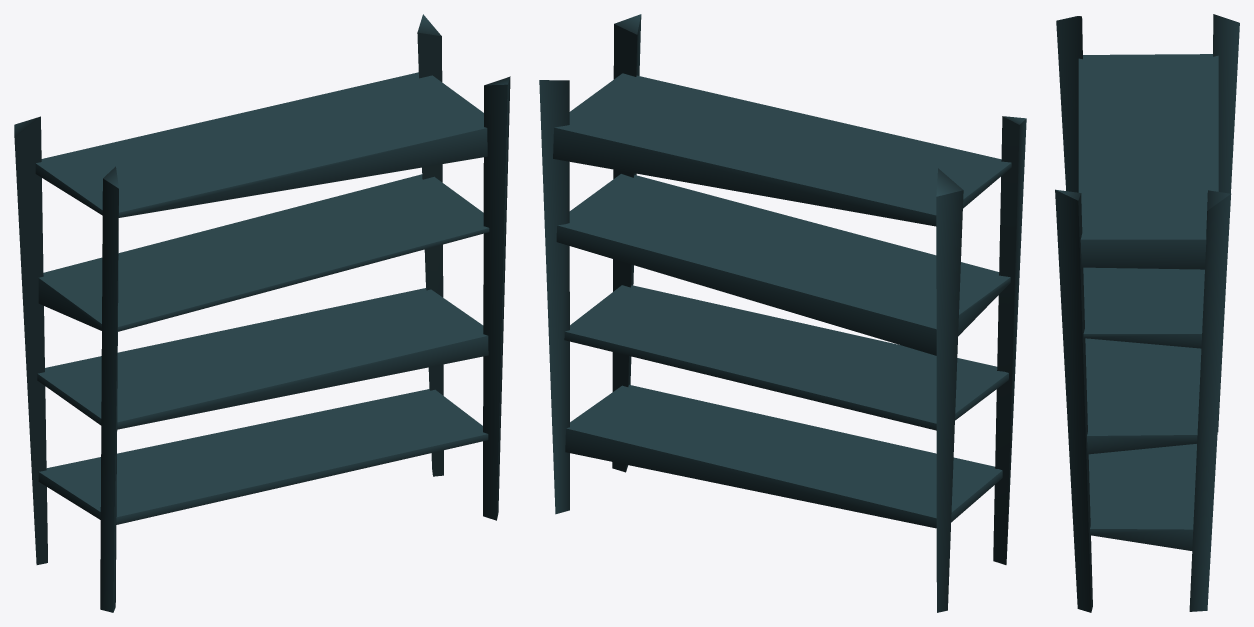
The model's file is c_furniture_shelves_metal_aa.fbx.
The picture shows the model from 3 angles, left to right: view 1: azimuth 30°, elevation 25°; view 2: azimuth 150°, elevation 25°; view 3: azimuth 270°, elevation 25°; orthographic projection. The views are drawn at different scales.
Parts seen in each view (by area): view 1: c_furniture_shelves_metal_aa; view 2: c_furniture_shelves_metal_aa; view 3: c_furniture_shelves_metal_aa.
Part boxes in pixels (bbox=[...]): c_furniture_shelves_metal_aa: bbox=[14, 14, 510, 612]; c_furniture_shelves_metal_aa: bbox=[539, 14, 1026, 612]; c_furniture_shelves_metal_aa: bbox=[1055, 14, 1239, 612].
Size of the model in its own units: 2.13 by 2.13 by 0.854.
